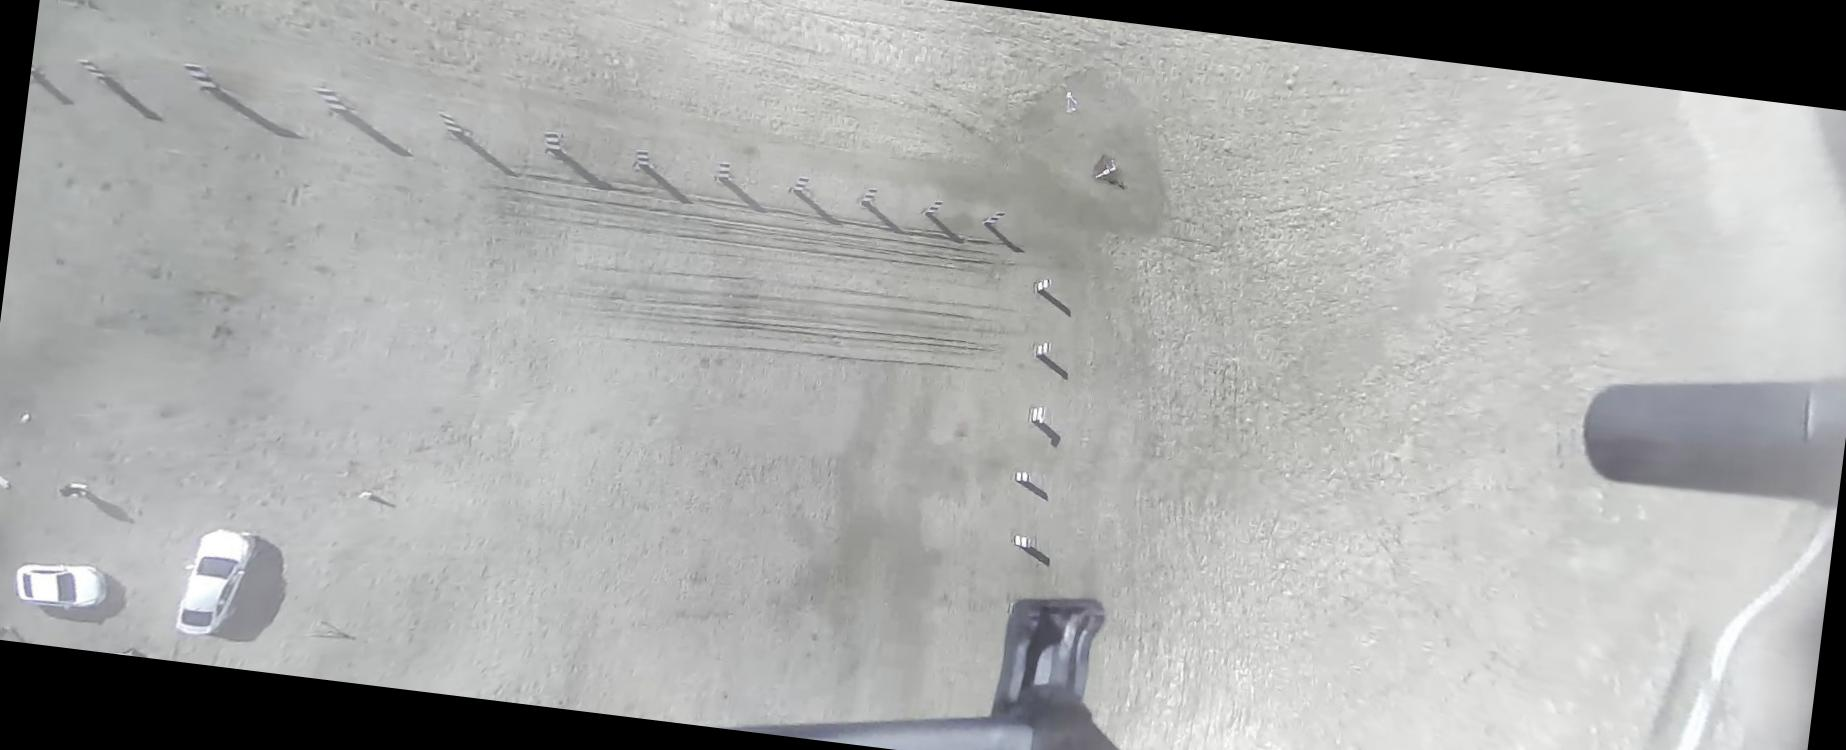vehicle: (173, 524, 255, 642), (12, 557, 108, 615)
